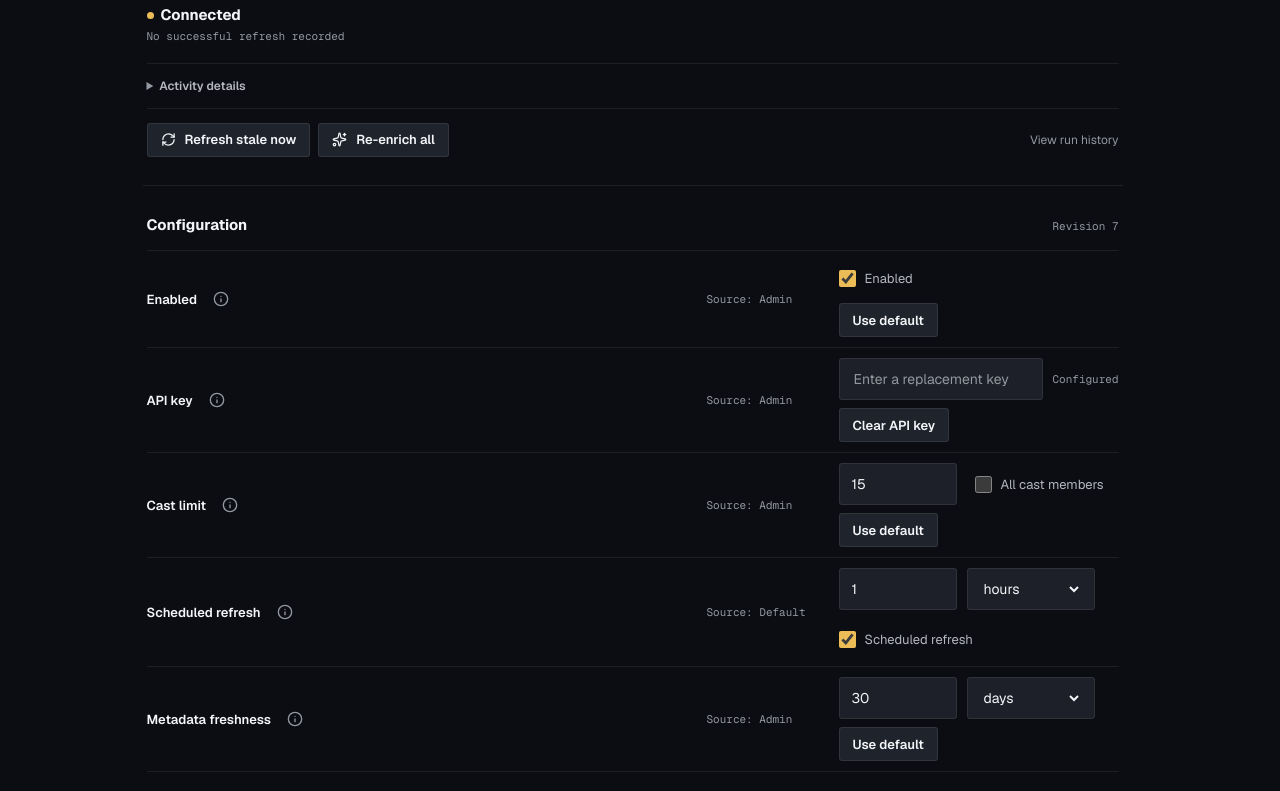
Test case: TMDB Admin settings › keeps setting help, environment keys, and defaults behind local info controls
Focus the button named "About Enabled" at [221, 299], box left=204, top=282, right=238, bottom=316
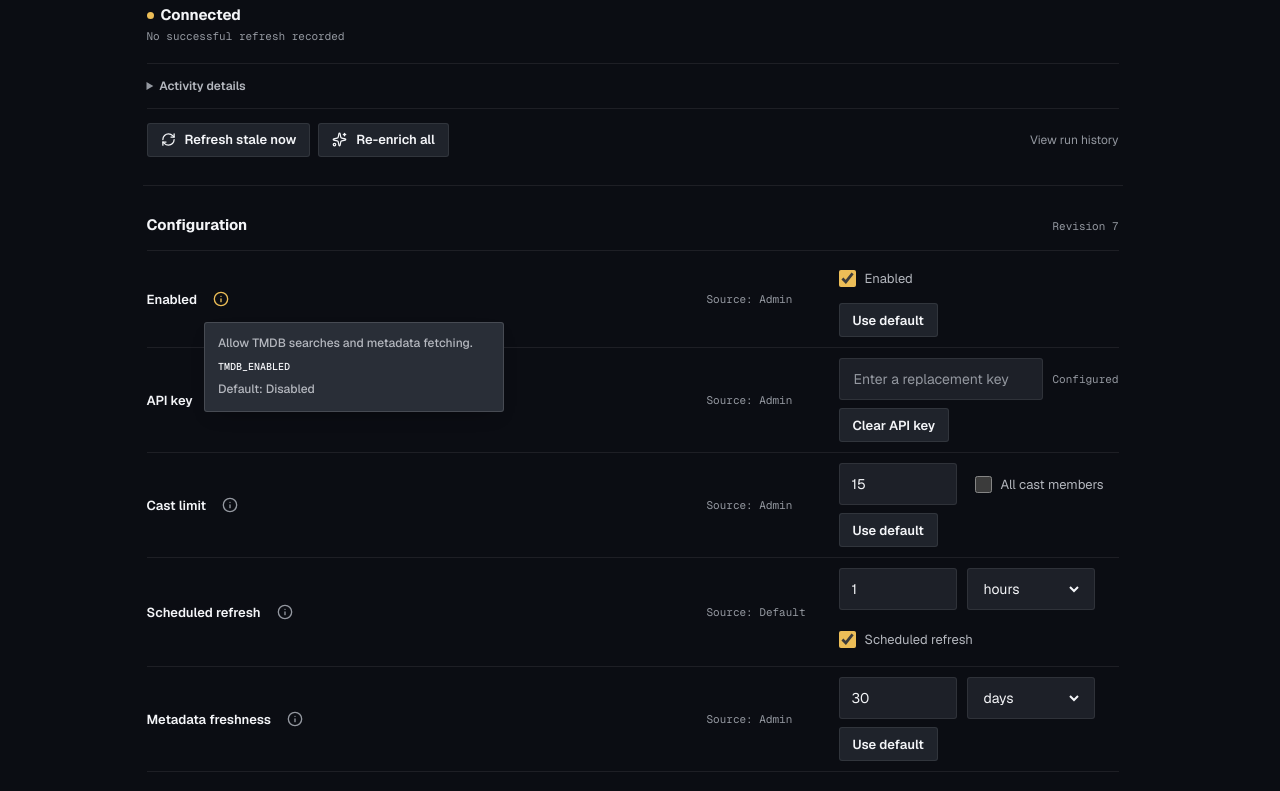
Expected: the text "Allow TMDB searches and metadata fetching." is shown, left=218, top=335, right=490, bottom=353
Expected: the text "TMDB_ENABLED" is shown, left=218, top=360, right=290, bottom=373
Expected: the text "Default: Disabled" is shown, left=218, top=381, right=315, bottom=397
Press Escape in the button named "About Enabled", box left=204, top=282, right=238, bottom=316
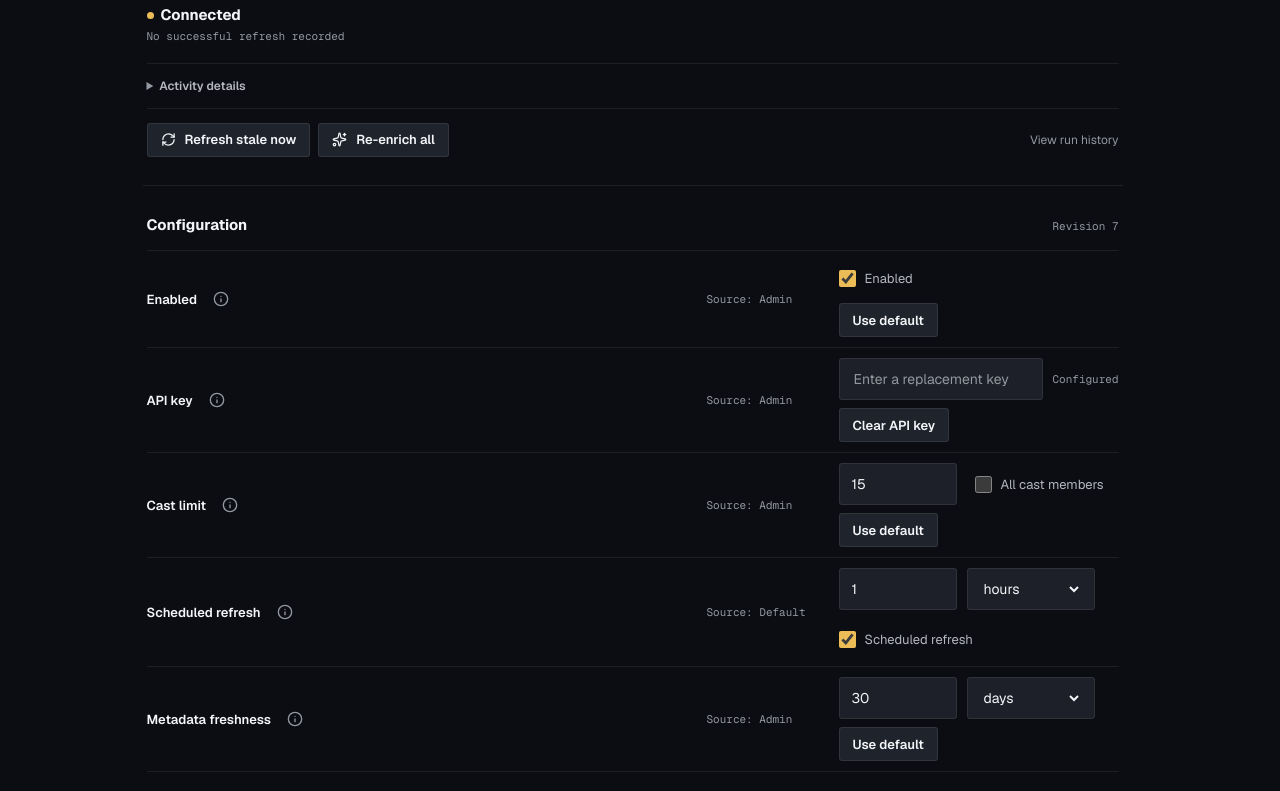
Expected: the tooltip "Allow TMDB searches and metadata fetching. TMDB_ENABLED Default: Disabled" is gone
Click the button named "About Enabled" at [221, 299], box left=204, top=282, right=238, bottom=316
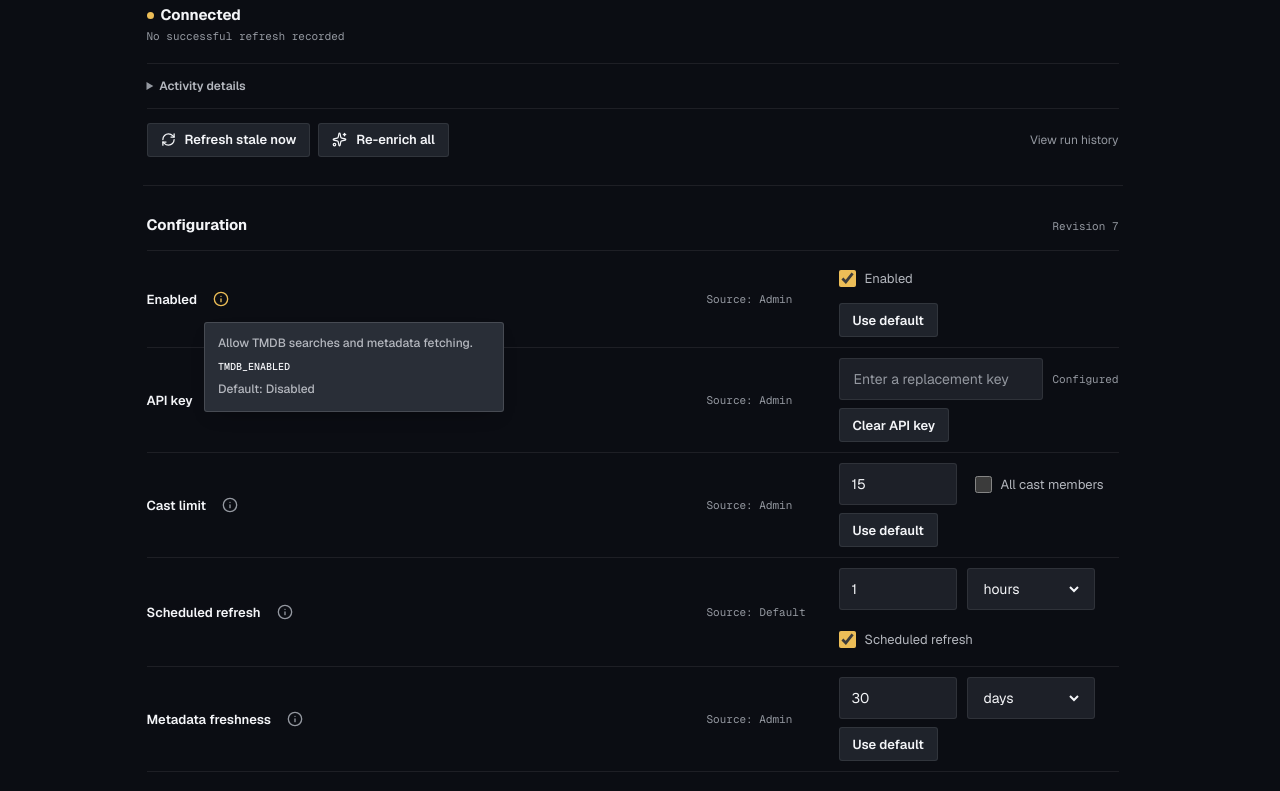
Expected: the tooltip is shown, left=204, top=322, right=504, bottom=412
Click the button named "About Enabled" at [221, 299], box left=204, top=282, right=238, bottom=316
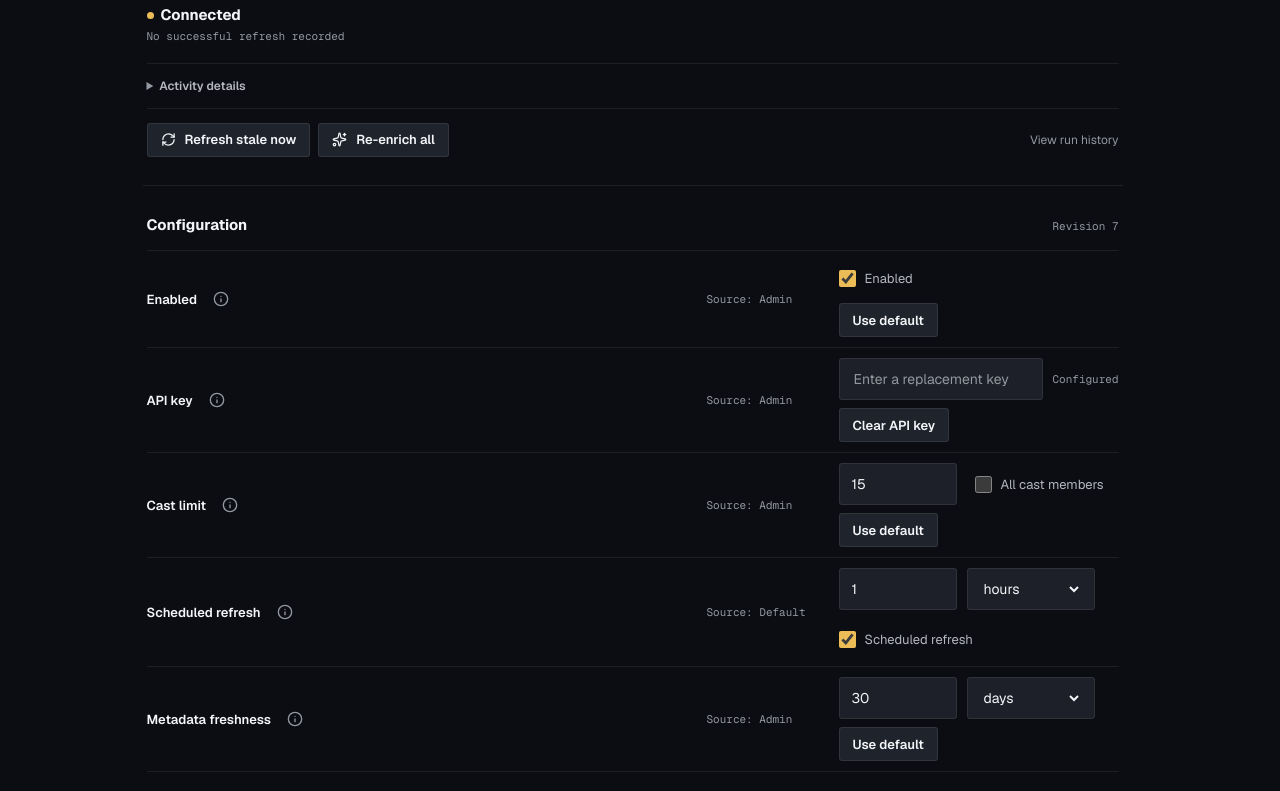
Expected: the tooltip "Allow TMDB searches and metadata fetching. TMDB_ENABLED Default: Disabled" is gone
